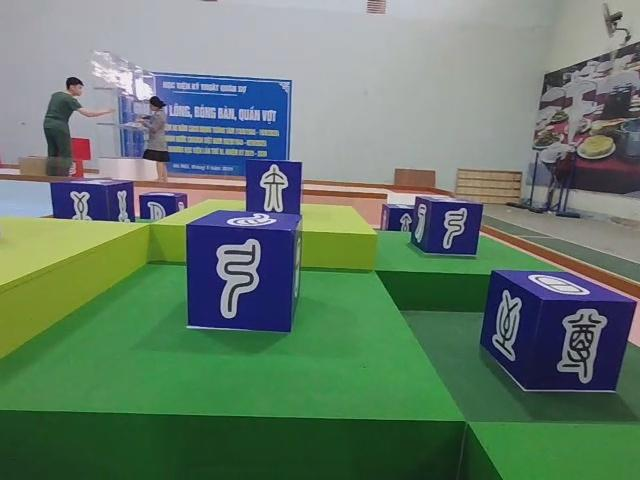R2 Fake Blue: (482, 271, 637, 395), (189, 211, 306, 336), (411, 196, 483, 258), (246, 159, 303, 216)
R2 Real Blue: (50, 180, 135, 225), (137, 192, 186, 221), (377, 203, 413, 231)
